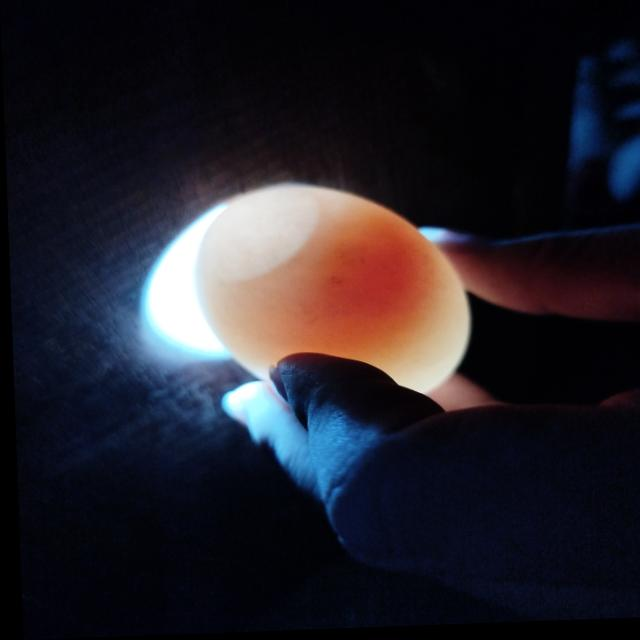Camara de Ar: (194, 190, 313, 286)
Gema Quebrada: (306, 213, 433, 357)
